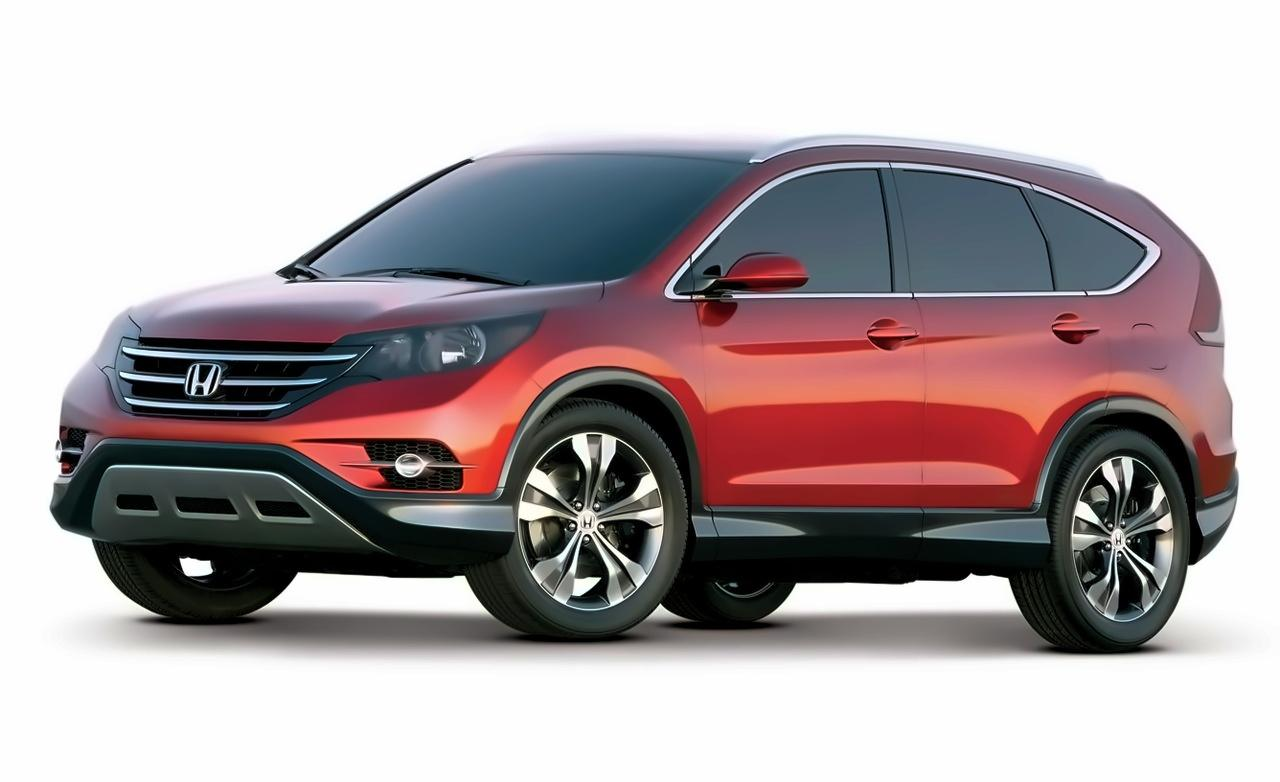Car hood: (127, 257, 610, 345)
Fender - -F-L-: (512, 254, 715, 547)
Fender - -R-L-: (1092, 279, 1226, 449)
Front bumper: (49, 382, 550, 587)
Headlight - -L-: (322, 306, 551, 396)
Headlight - -R-: (84, 301, 163, 386)
Passenger-s door - -F-L-: (705, 141, 929, 514)
Passenger-s door - -R-L-: (915, 141, 1120, 521)
Rear bumper: (1165, 357, 1245, 574)
Rear light - -L-: (1179, 249, 1233, 360)
Side bumper - -L-: (680, 494, 1059, 583)
Side mirror - -L-: (705, 244, 815, 306)
